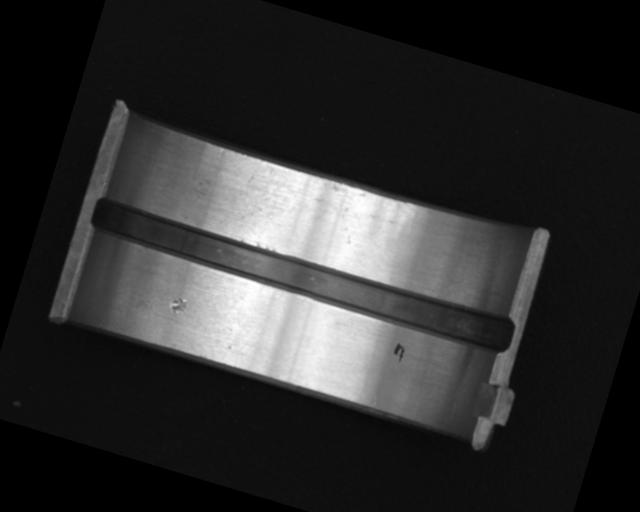blot: (390, 340, 408, 363)
bruise: (167, 294, 190, 318)
gap: (85, 194, 516, 359)
